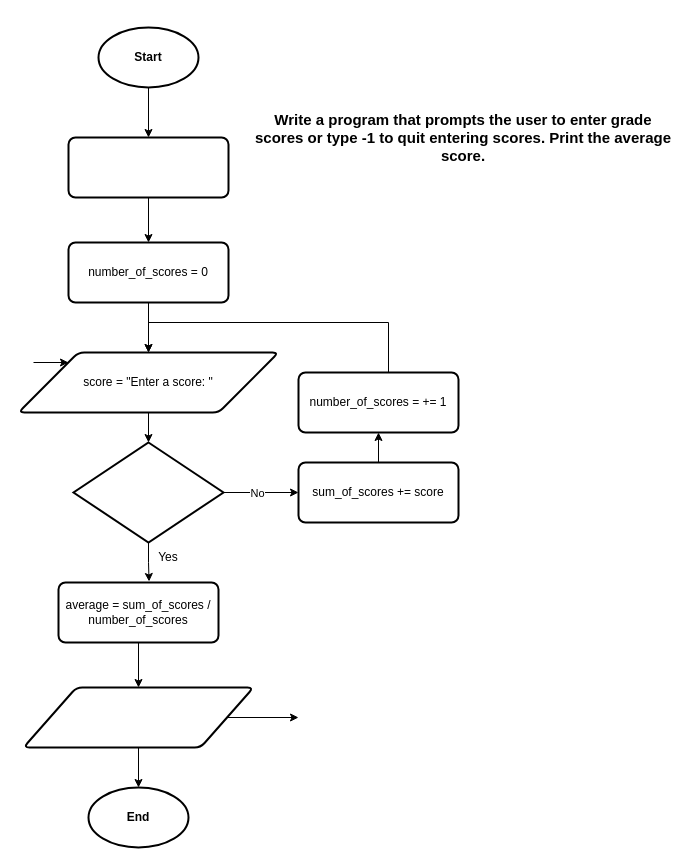
This 695x865 diagram has some shape labels left out. The shapes that lost their labels are listed below. From the top down, each one's centre as x and y in pixels, then its label:
pixel 148 167: sum_of_scores = 0
pixel 148 492: score == -1
pixel 138 717: output: "Student: " + name "Average score: " + average
